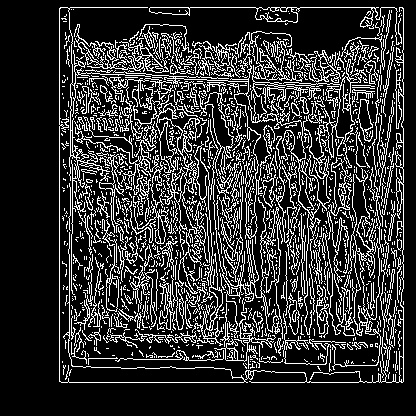buddha-standing: (57, 213, 233, 260)
